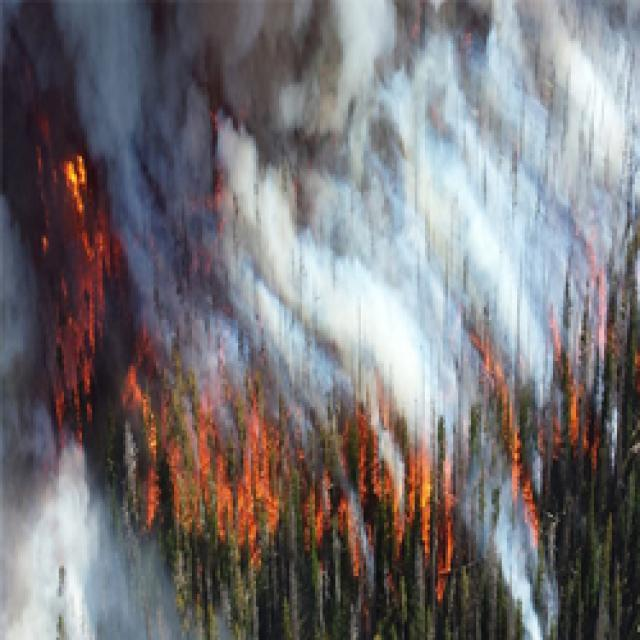Fire: (108, 366, 471, 604), (3, 108, 175, 471), (450, 284, 638, 558)
Smoke: (112, 0, 630, 374), (0, 366, 187, 640), (0, 0, 212, 138)
